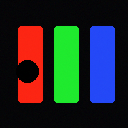2 circle: (16, 60, 38, 82)
